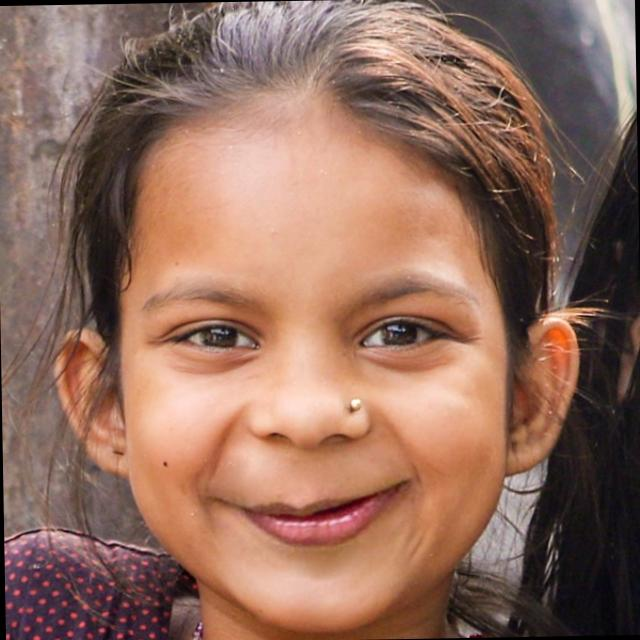face: (47, 155, 596, 638)
